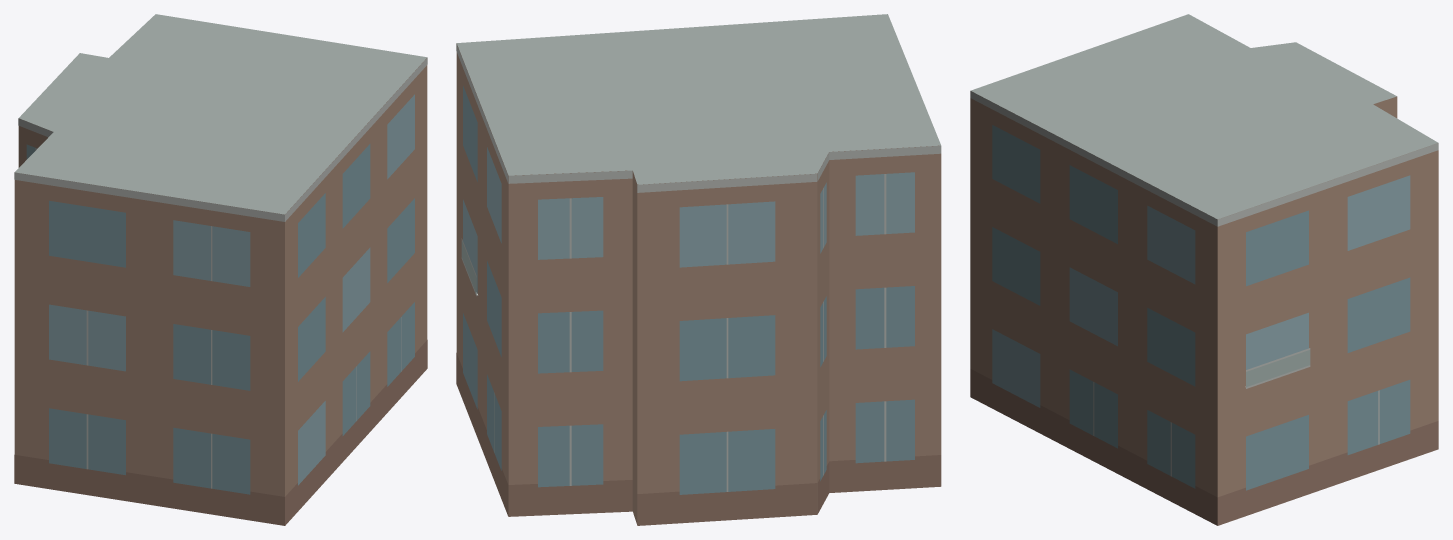
The model's file is survey-upis-32837962.glb.
3 renders of one model, left to right at view 1: azimuth 30°, elevation 25°; view 2: azimuth 150°, elevation 25°; view 3: azimuth 270°, elevation 25°, orthographic. The views are drawn at different scales.
Visible parts, largest first — view 1: survey-upis-32837962.tmp; view 2: survey-upis-32837962.tmp; view 3: survey-upis-32837962.tmp.
Boxes of the visible parts, left/top/right/bottom form: survey-upis-32837962.tmp: left=14, top=14, right=427, bottom=525; survey-upis-32837962.tmp: left=456, top=14, right=941, bottom=525; survey-upis-32837962.tmp: left=970, top=14, right=1438, bottom=525.
Size of the model in its own units: 14.67 by 10.2 by 14.13.
